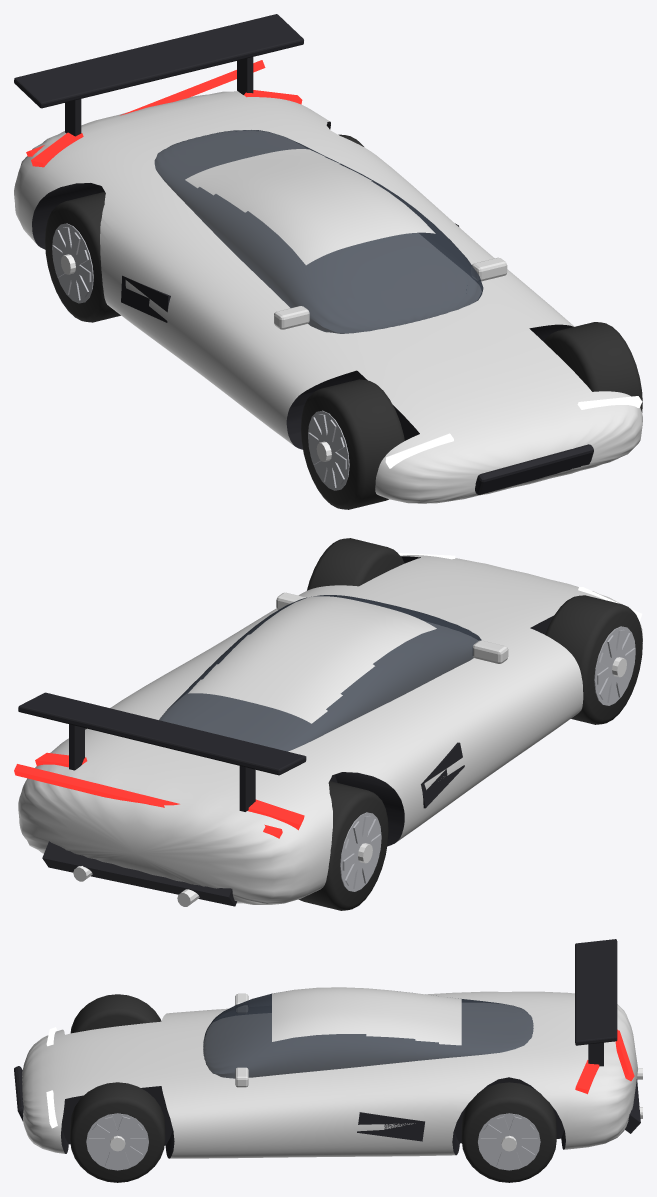
The model's file is mythic.glb.
3 views of the same model, one above another, from view 1: azimuth 30°, elevation 25°; view 2: azimuth 150°, elevation 25°; view 3: azimuth 270°, elevation 25° (orthographic). The views are drawn at different scales.
Parts seen in each view (by area): view 1: Car, Wheel_FL, Wheel_FR, Wheel_RL, Rim.002, Rim; view 2: Car, Wheel_FL, Wheel_RL, Wheel_FR, Rim, Rim.002; view 3: Car, Wheel_FR, Wheel_RR, Wheel_FL, Rim.003, Rim.001, Spoke.015, Spoke.005.
Boxes of the visible parts, left/top/right/bottom form: Car: left=14, top=14, right=642, bottom=503; Wheel_FL: left=301, top=379, right=404, bottom=509; Wheel_FR: left=543, top=322, right=642, bottom=412; Wheel_RL: left=45, top=192, right=120, bottom=322; Rim.002: left=52, top=223, right=93, bottom=303; Rim: left=308, top=410, right=349, bottom=490; Car: left=14, top=553, right=642, bottom=906; Wheel_FL: left=545, top=595, right=642, bottom=724; Wheel_RL: left=298, top=781, right=388, bottom=910; Wheel_FR: left=307, top=538, right=404, bottom=590; Rim: left=594, top=626, right=635, bottom=705; Rim.002: left=340, top=812, right=381, bottom=891; Car: left=14, top=939, right=642, bottom=1158; Wheel_FR: left=70, top=1082, right=165, bottom=1182; Wheel_RR: left=461, top=1082, right=556, bottom=1182; Wheel_FL: left=70, top=994, right=161, bottom=1033; Rim.003: left=478, top=1113, right=540, bottom=1170; Rim.001: left=86, top=1113, right=148, bottom=1170; Spoke.015: left=480, top=1138, right=537, bottom=1146; Spoke.005: left=89, top=1138, right=146, bottom=1146.
Bounding box in the file's own units: 2.03 × 1.2 × 4.76.
